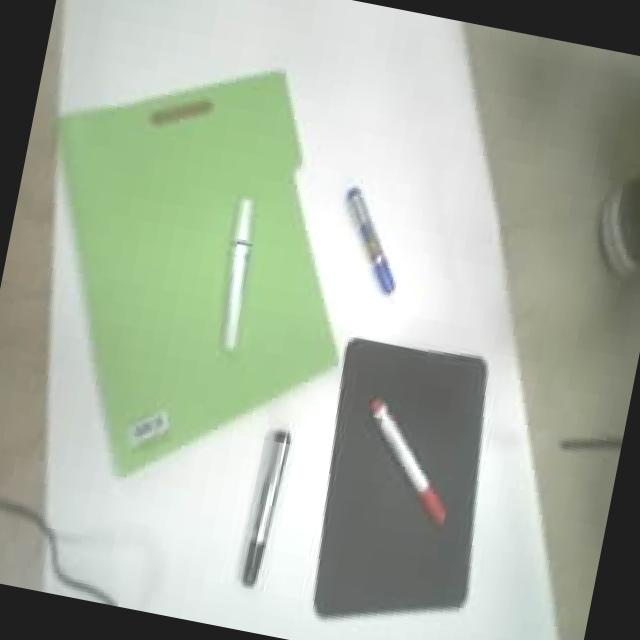board-marker: (371, 399, 447, 523), (244, 431, 291, 584), (347, 186, 395, 293), (225, 197, 255, 348)
